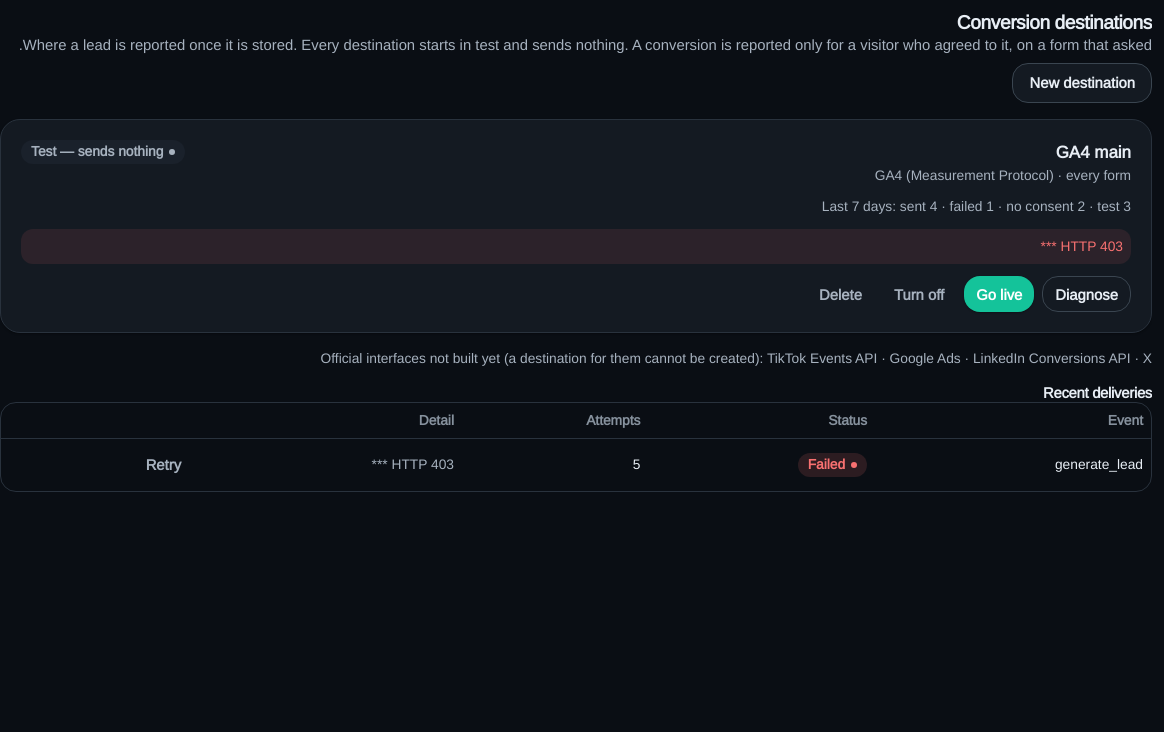
the conversion destinations screen › shows the server’s reason when going live is refused
Click the button with test id "destination-golive-d1" at [999, 294], box [964,276,1034,312]
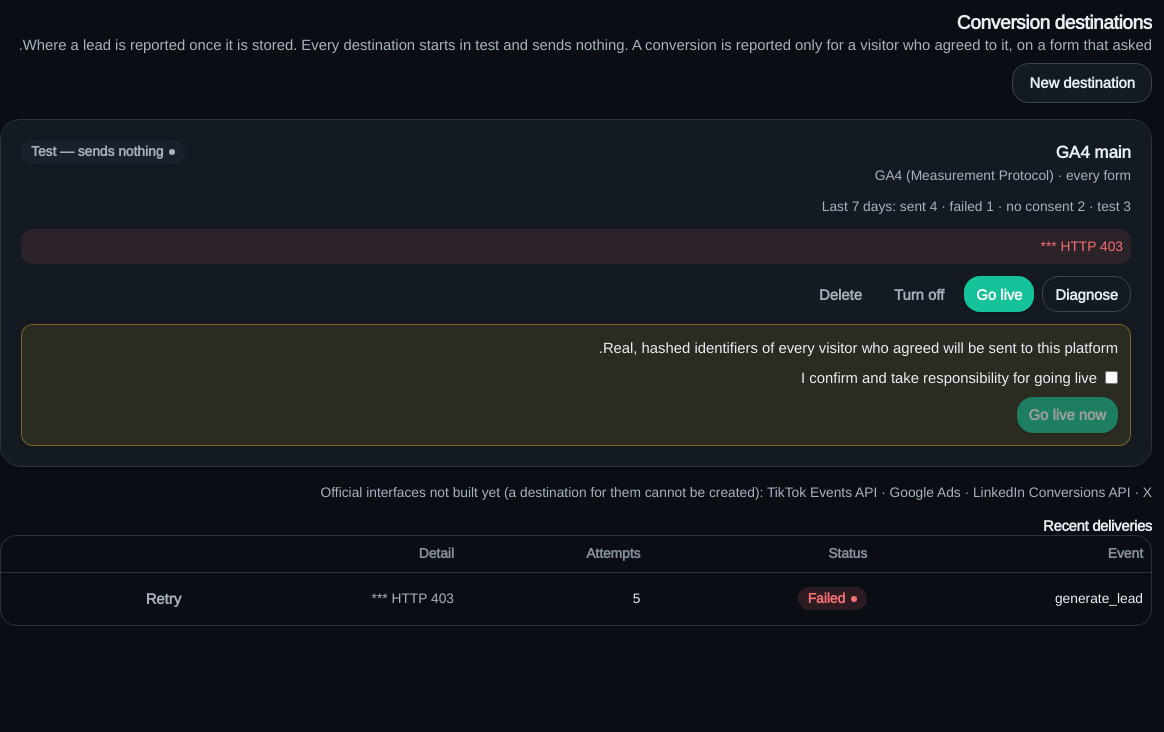
Click the checkbox with test id "destination-confirm-box-d1" at [1112, 378], box [1105,371,1118,384]
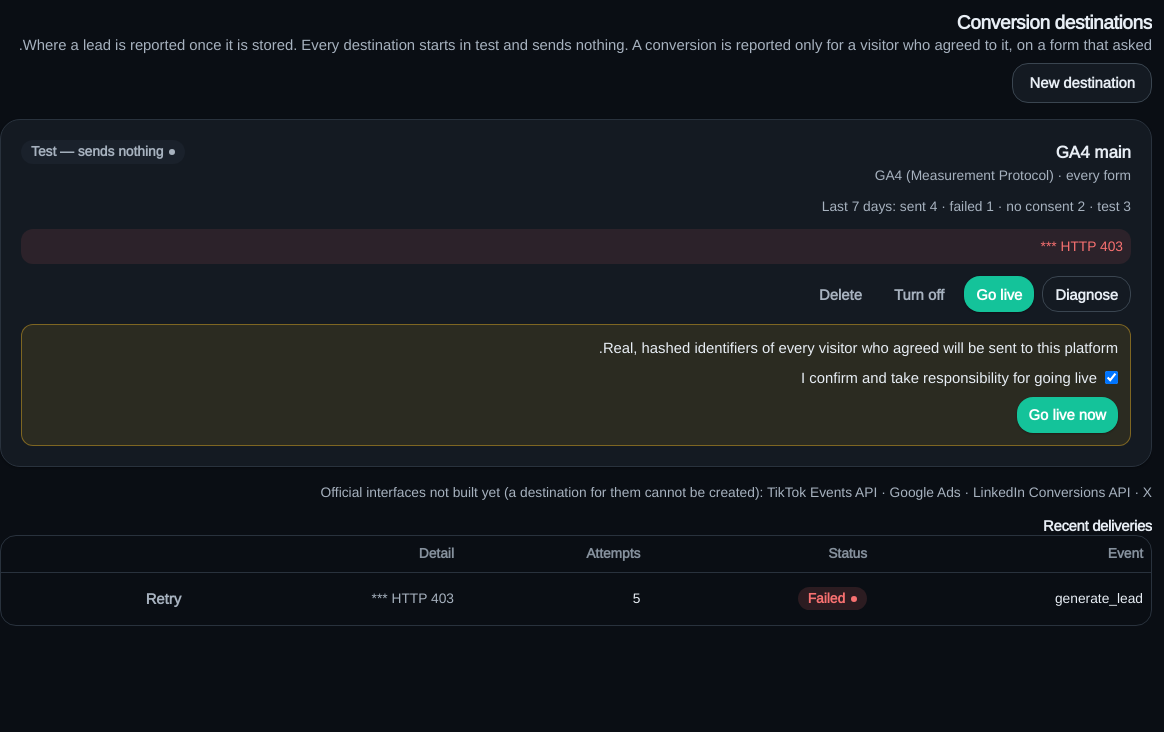
Click the button with test id "destination-live-d1" at [1067, 415], box [1016,397,1118,433]
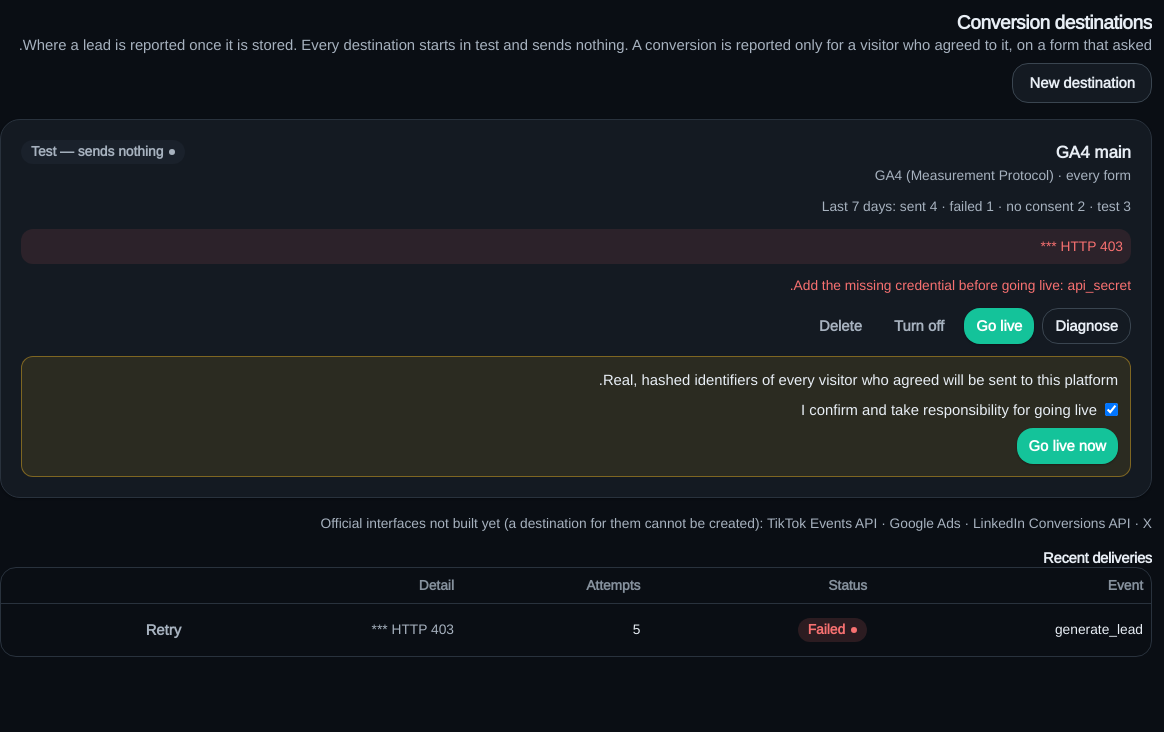
Expected: the message with test id "destination-action-error-d1" shows "missing credential", [790,277,1131,293]
